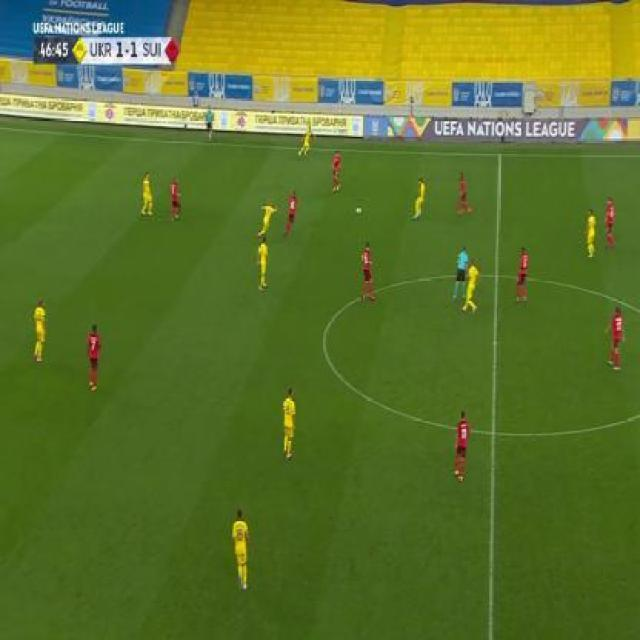ball: (356, 206, 362, 215)
player: (230, 507, 252, 592), (604, 305, 627, 370), (452, 408, 472, 481), (84, 322, 103, 393), (280, 385, 297, 461), (462, 255, 482, 314), (31, 296, 48, 364), (513, 244, 530, 304), (360, 241, 376, 303), (452, 245, 469, 302), (601, 195, 617, 249), (256, 200, 278, 239), (455, 170, 474, 215), (283, 189, 300, 237), (256, 234, 270, 291), (139, 171, 155, 217), (410, 177, 427, 220), (584, 207, 598, 258), (168, 176, 182, 222), (298, 120, 314, 157), (329, 149, 342, 194), (205, 106, 214, 143)
